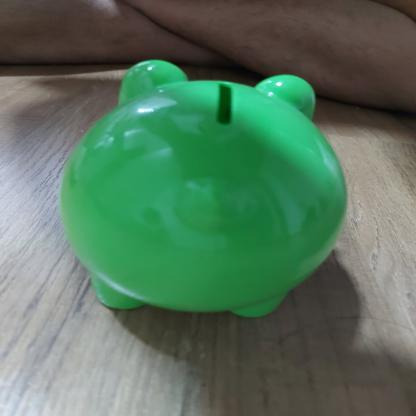plastic: (53, 55, 352, 323)
